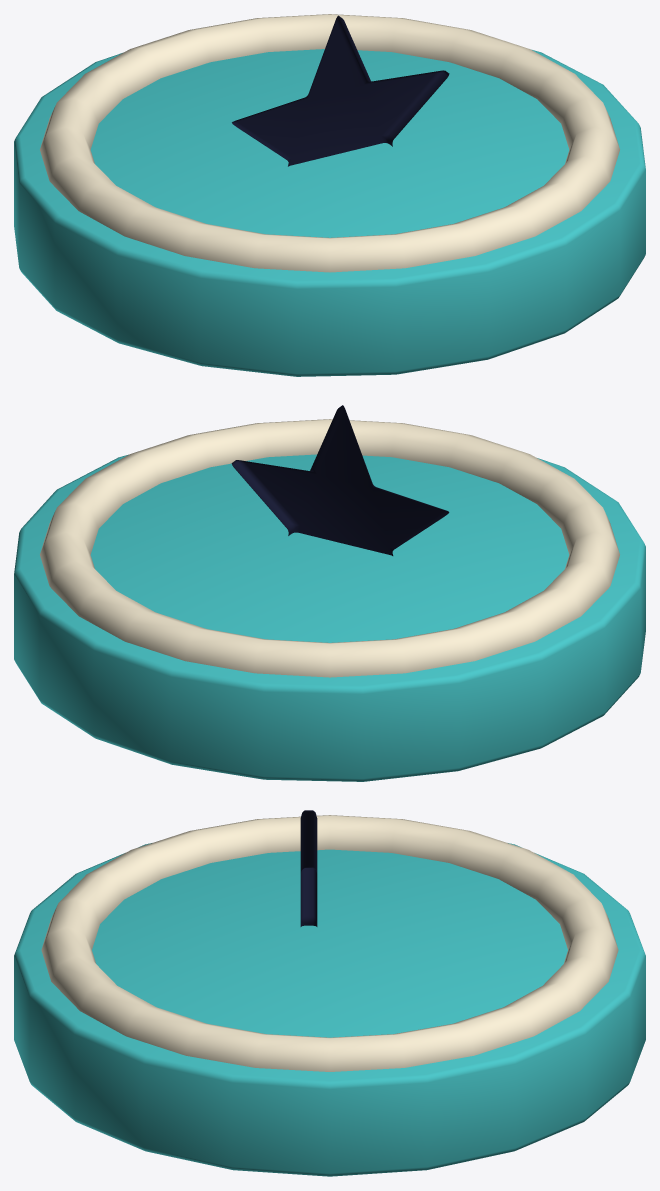
Rendered from r064_kart_vehicle_selection_pads_selection_pad_02.glb.
3 renders of one model, top to bottom at view 1: azimuth 30°, elevation 25°; view 2: azimuth 150°, elevation 25°; view 3: azimuth 270°, elevation 25°, orthographic.
Visible parts, largest first — view 1: r064_kart_vehicle_selection_pads_selection_pad_02.001; view 2: r064_kart_vehicle_selection_pads_selection_pad_02.001; view 3: r064_kart_vehicle_selection_pads_selection_pad_02.001.
Part boxes in pixels (left/top/right/bottom): r064_kart_vehicle_selection_pads_selection_pad_02.001: left=14, top=14, right=645, bottom=376; r064_kart_vehicle_selection_pads_selection_pad_02.001: left=14, top=405, right=645, bottom=781; r064_kart_vehicle_selection_pads_selection_pad_02.001: left=14, top=810, right=645, bottom=1176.
Size of the model in its own units: 3 by 1.23 by 3.
